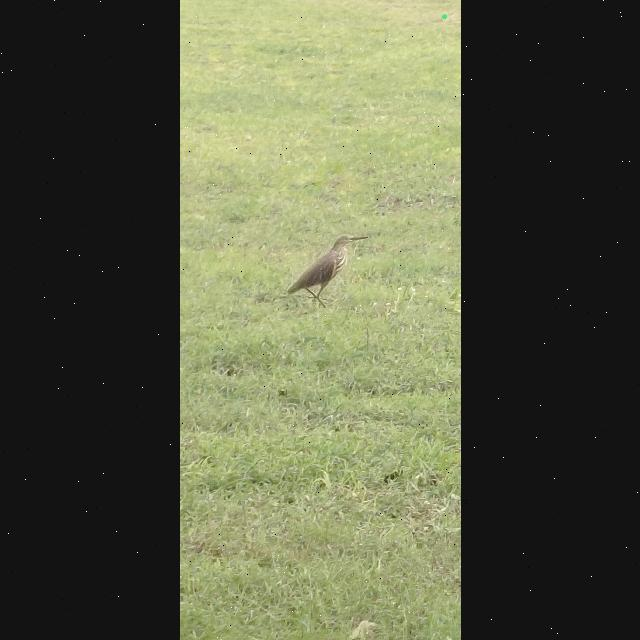heron: (278, 227, 376, 307)
